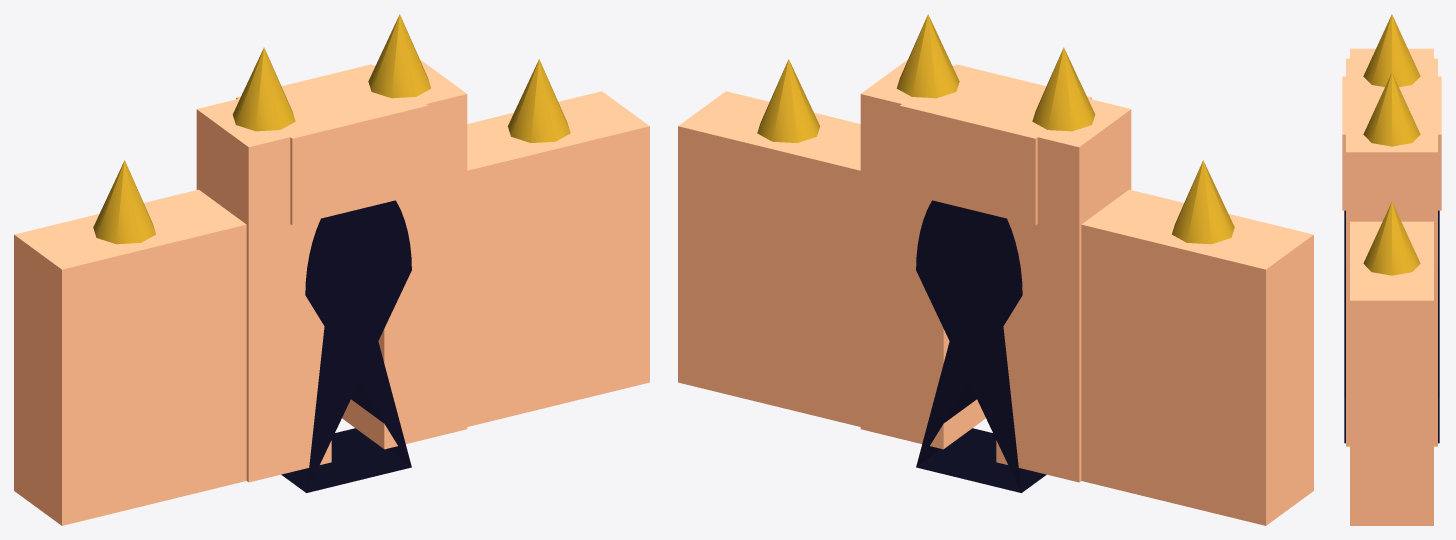
File: atlantis-the-palm.glb
3 renders of one model, left to right at view 1: azimuth 30°, elevation 25°; view 2: azimuth 150°, elevation 25°; view 3: azimuth 270°, elevation 25°, orthographic. The views are drawn at different scales.
Size of the model in its own units: 15.6 by 10.9 by 2.6.
